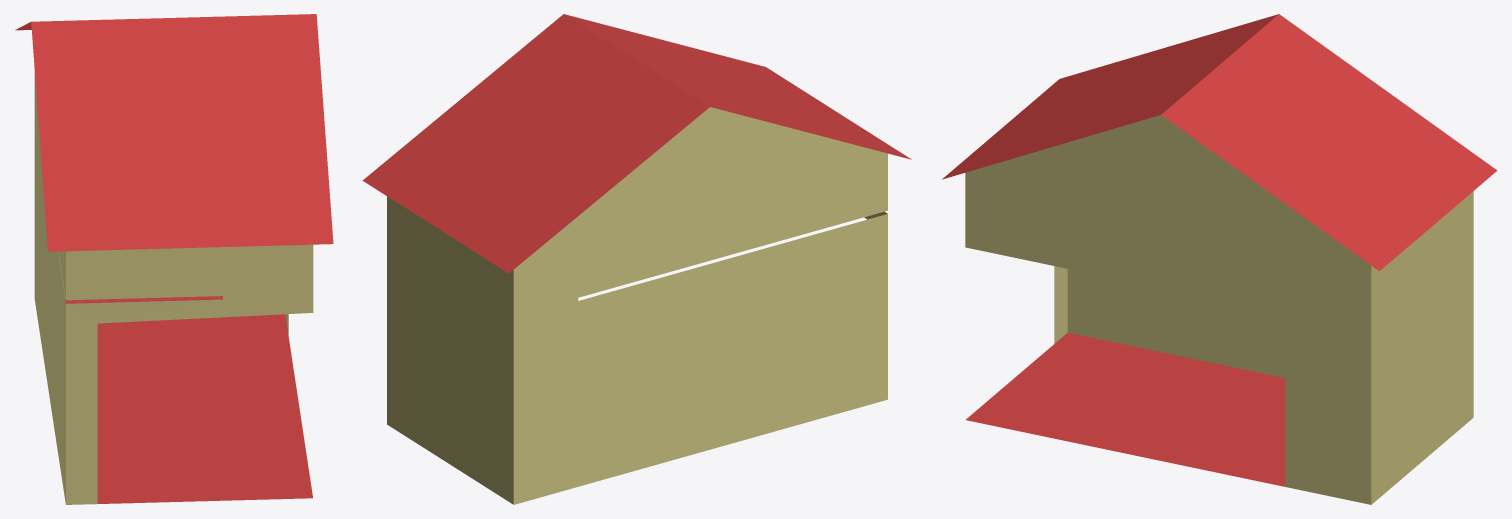
The picture shows the model from 3 angles, left to right: view 1: azimuth 30°, elevation 25°; view 2: azimuth 150°, elevation 25°; view 3: azimuth 270°, elevation 25°; orthographic projection. The views are drawn at different scales.
Size of the model in its own units: 12.79 by 15.62 by 10.99.
